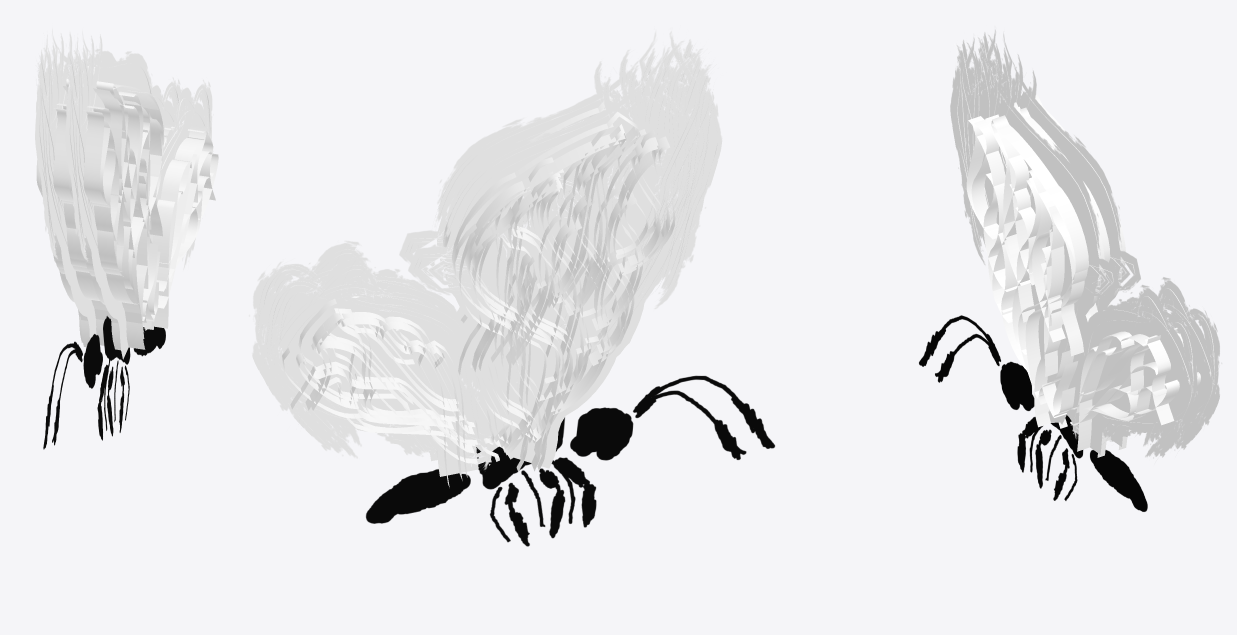
File: butterfly_compressed.glb
3 views of the same model, side by side, from view 1: azimuth 30°, elevation 25°; view 2: azimuth 150°, elevation 25°; view 3: azimuth 270°, elevation 25° (orthographic). The views are drawn at different scales.
Visible parts, largest first — view 1: BézierCurve.005, BézierCurve.007, BézierCurve.004, BézierCurve.006, butterfly; view 2: BézierCurve.007, BézierCurve.006, butterfly, BézierCurve.004, BézierCurve.005; view 3: BézierCurve.005, BézierCurve.004, BézierCurve.006, butterfly, BézierCurve.007.
Part boxes in pixels (x1=…): BézierCurve.005: x1=69, y1=66, x2=218, y2=359; BézierCurve.007: x1=36, y1=63, x2=175, y2=347; BézierCurve.004: x1=65, y1=31, x2=213, y2=328; BézierCurve.006: x1=35, y1=28, x2=180, y2=258; butterfly: x1=43, y1=316, x2=165, y2=449; BézierCurve.007: x1=279, y1=108, x2=675, y2=487; BézierCurve.006: x1=257, y1=46, x2=722, y2=469; butterfly: x1=366, y1=375, x2=774, y2=546; BézierCurve.004: x1=249, y1=31, x2=703, y2=442; BézierCurve.005: x1=280, y1=90, x2=633, y2=461; BézierCurve.005: x1=966, y1=99, x2=1190, y2=457; BézierCurve.004: x1=950, y1=37, x2=1200, y2=458; BézierCurve.006: x1=975, y1=29, x2=1221, y2=450; butterfly: x1=919, y1=315, x2=1147, y2=511; BézierCurve.007: x1=1006, y1=91, x2=1211, y2=449.
Bounding box in the file's own units: 0.3359 × 0.4707 × 0.2842.
3 materials, 3 textured.
